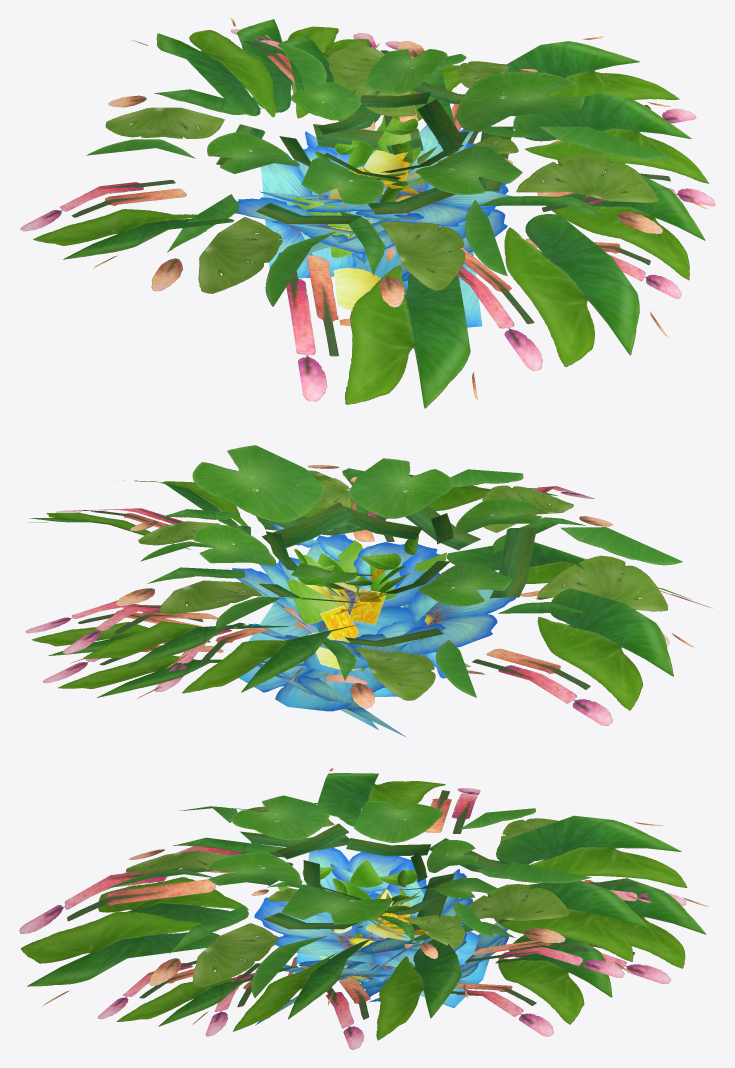
Rendered from Scene_cao_002.FBX.
3 views of the same model, one above another, from view 1: azimuth 30°, elevation 25°; view 2: azimuth 150°, elevation 25°; view 3: azimuth 270°, elevation 25° (orthographic). The views are drawn at different scales.
Visible parts, largest first — view 1: Scene_cao_002; view 2: Scene_cao_002; view 3: Scene_cao_002.
Boxes of the visible parts, x1,y1,x2,y2 form: Scene_cao_002: [20, 18, 715, 408]; Scene_cao_002: [25, 445, 712, 736]; Scene_cao_002: [19, 767, 708, 1049].
Bounding box in the file's own units: 77.89 × 21.31 × 82.44.
